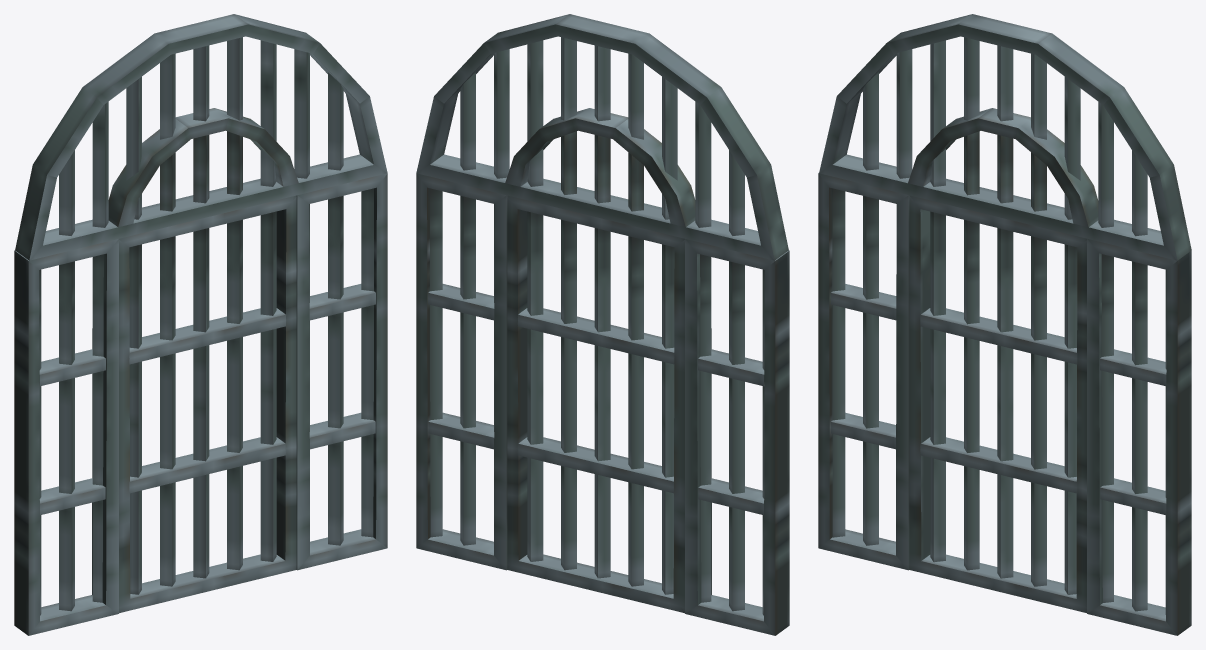
Rendered from gate.obj.
3 renders of one model, left to right at view 1: azimuth 30°, elevation 25°; view 2: azimuth 150°, elevation 25°; view 3: azimuth 330°, elevation 25°, orthographic.
Visible parts, largest first — view 1: D_pixel_door_set_01:arch_fill_01_sides_Mesh.004, D_pixel_door_set_01:arch_fill_01_middle_Mesh.005, D_pixel_door_set_01:door_32_top_03_Mesh.003; view 2: D_pixel_door_set_01:arch_fill_01_sides_Mesh.004, D_pixel_door_set_01:arch_fill_01_middle_Mesh.005, D_pixel_door_set_01:door_32_top_03_Mesh.003; view 3: D_pixel_door_set_01:arch_fill_01_sides_Mesh.004, D_pixel_door_set_01:arch_fill_01_middle_Mesh.005, D_pixel_door_set_01:door_32_top_03_Mesh.003.
Part boxes in pixels (x1,y1,x2,y2): D_pixel_door_set_01:arch_fill_01_sides_Mesh.004: (14,173,387,635); D_pixel_door_set_01:arch_fill_01_middle_Mesh.005: (119,195,296,613); D_pixel_door_set_01:door_32_top_03_Mesh.003: (15,14,387,260); D_pixel_door_set_01:arch_fill_01_sides_Mesh.004: (416,173,789,635); D_pixel_door_set_01:arch_fill_01_middle_Mesh.005: (507,195,684,613); D_pixel_door_set_01:door_32_top_03_Mesh.003: (416,14,788,260); D_pixel_door_set_01:arch_fill_01_sides_Mesh.004: (818,173,1191,635); D_pixel_door_set_01:arch_fill_01_middle_Mesh.005: (909,195,1086,612); D_pixel_door_set_01:door_32_top_03_Mesh.003: (819,14,1191,260).
Size of the model in its own units: 0.3207 by 0.476 by 0.022.
